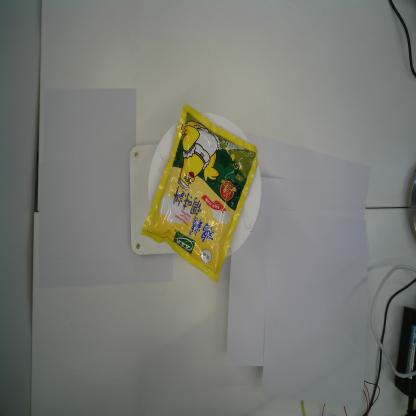Seasoner: (138, 101, 259, 284)
